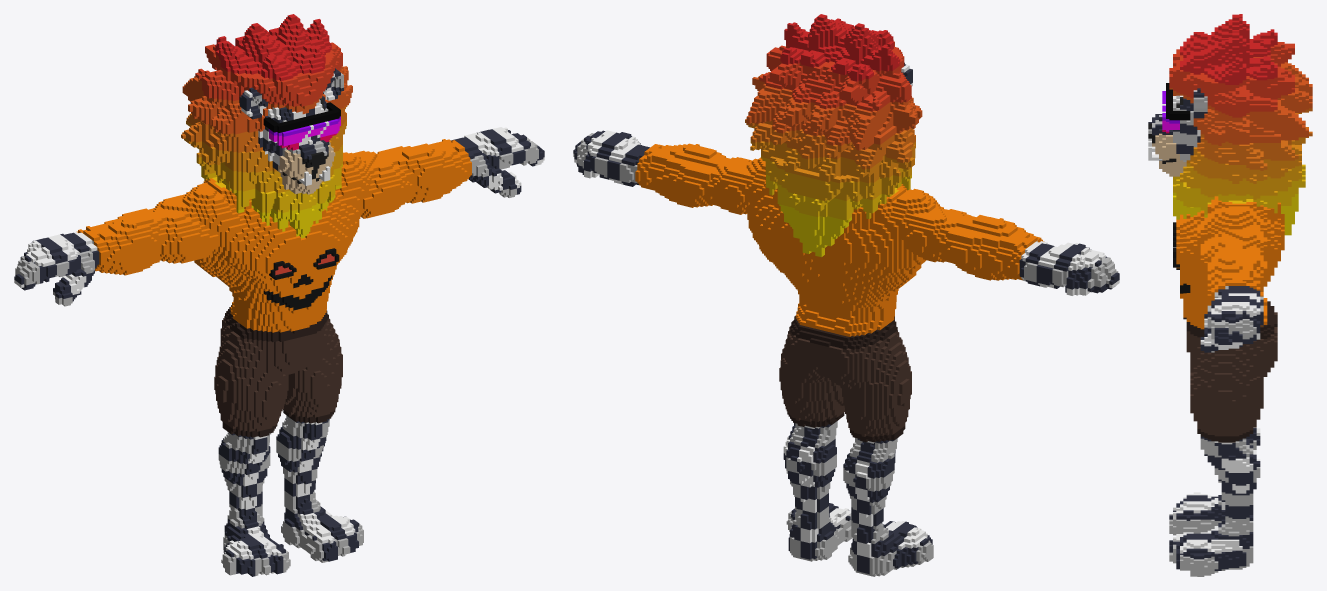
File: 547-M_LwjWQS.fbx
3 views of the same model, side by side, from view 1: azimuth 30°, elevation 25°; view 2: azimuth 150°, elevation 25°; view 3: azimuth 270°, elevation 25° (orthographic). The views are drawn at different scales.
Parts seen in each view (by area): view 1: ork; view 2: ork; view 3: ork.
Boxes of the visible parts, x1,y1,x2,y2 form: ork: (14, 14, 544, 576); ork: (573, 14, 1119, 576); ork: (1148, 14, 1312, 576).
Bounding box in the file's own units: 17.2 × 16.5 × 4.7.
5 materials, 5 textured.
